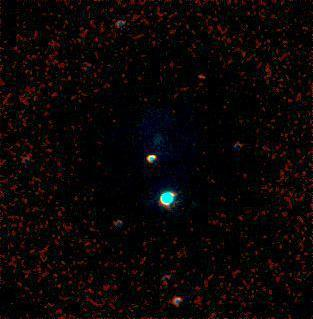star: (189, 60, 219, 90)
